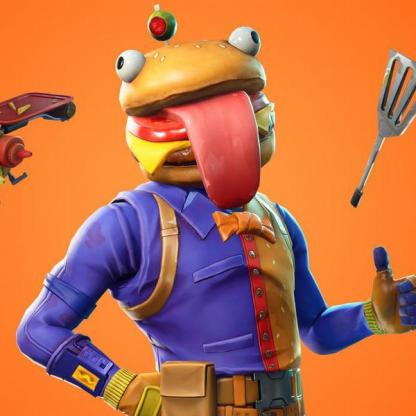person: (14, 23, 416, 416)
